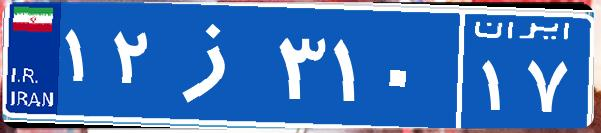0: (385, 28, 445, 110)
1: (330, 28, 385, 110), (57, 26, 110, 107), (475, 38, 525, 113)
2: (110, 28, 158, 105)
3: (273, 28, 330, 110)
7: (525, 38, 570, 115)
ز: (158, 15, 273, 115)
